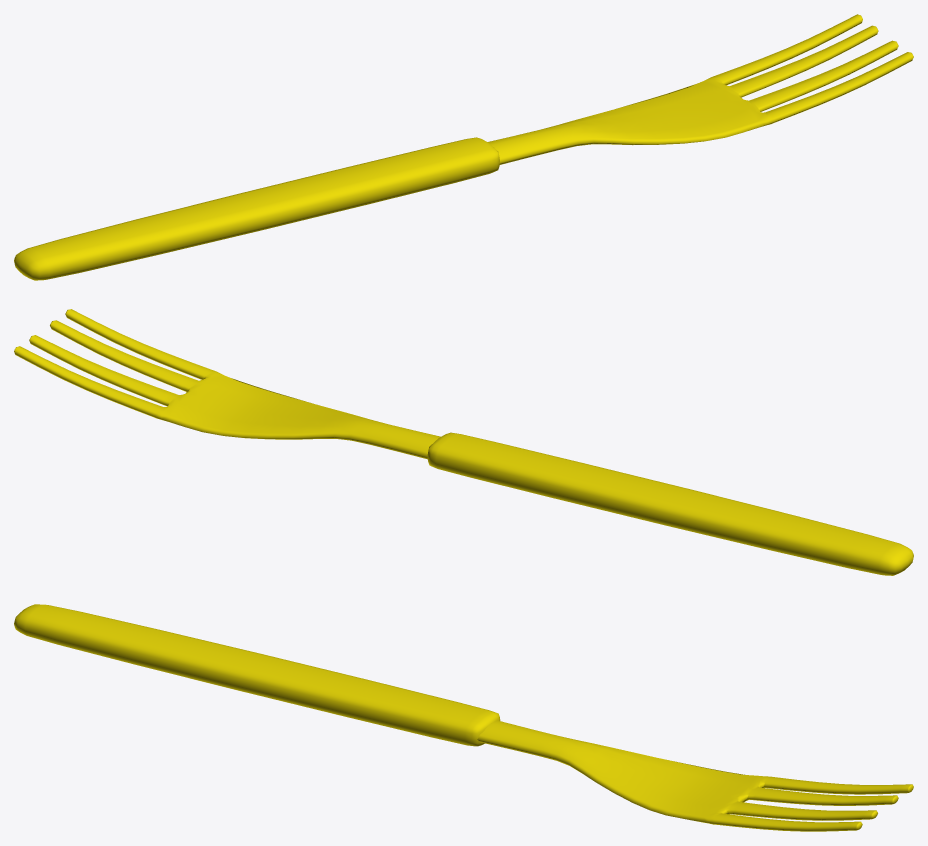
File: Fork.fbx
3 views of the same model, one above another, from view 1: azimuth 30°, elevation 25°; view 2: azimuth 150°, elevation 25°; view 3: azimuth 330°, elevation 25° (orthographic).
Visible parts, largest first — view 1: Fork; view 2: Fork; view 3: Fork.
Part boxes in pixels (x1,y1,x2,y2): Fork: (14,14,913,280); Fork: (14,309,913,575); Fork: (14,604,913,831).
Bounding box in the file's own units: 162 × 7.53 × 19.53.
